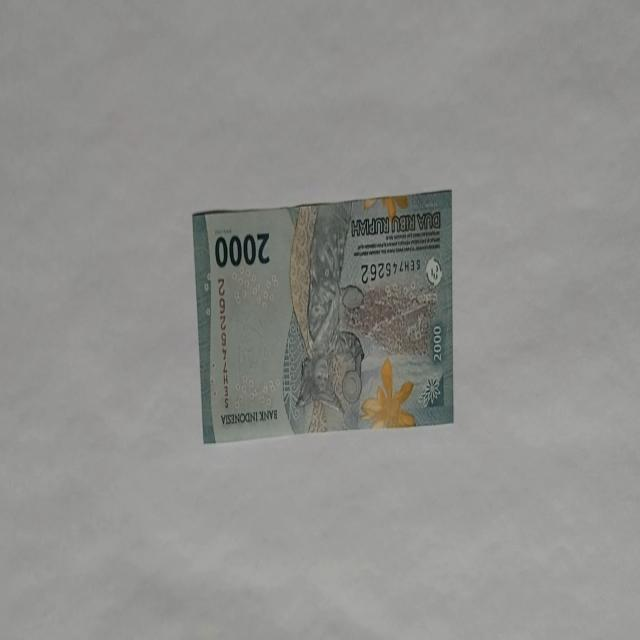dua ribu rupiah: (192, 190, 454, 444), (284, 200, 366, 432), (359, 356, 416, 430)
